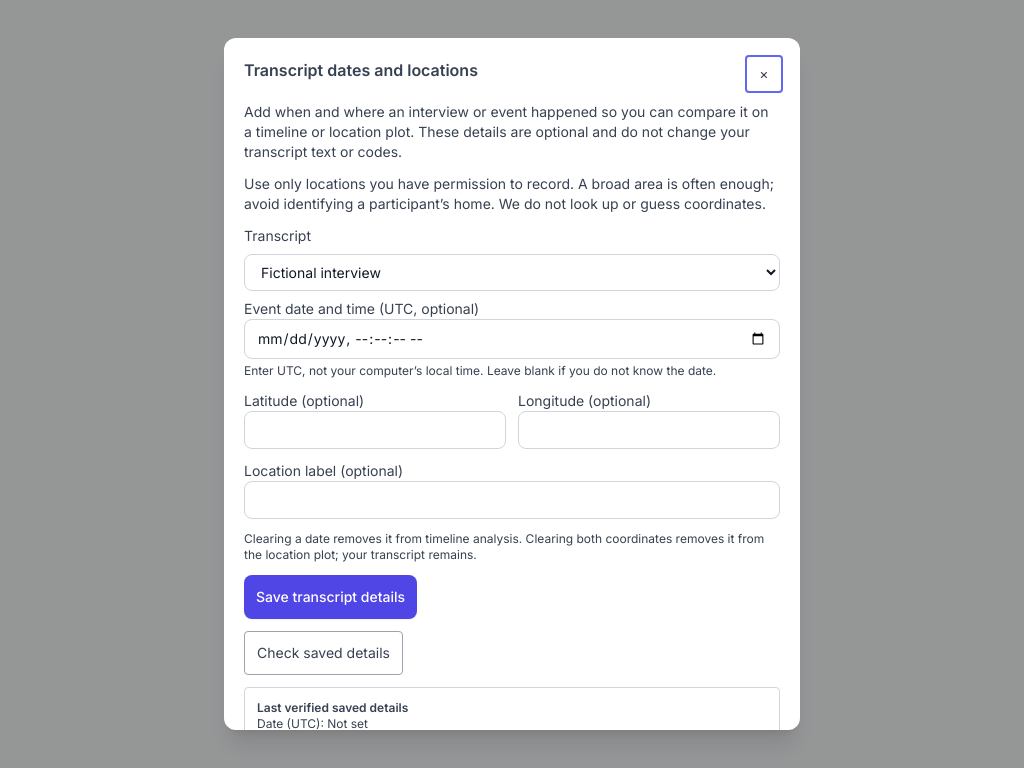
transcript metadata setup and uncertain-save recovery › confirms a legitimate zero coordinate pair and broadcasts only the confirmed write
Check: the button "Save transcript details" is enabled, box [244, 575, 417, 619]
In the field labelled "Latitude (optional)": {"x": 375, "y": 430} [244, 411, 506, 449], type "0"
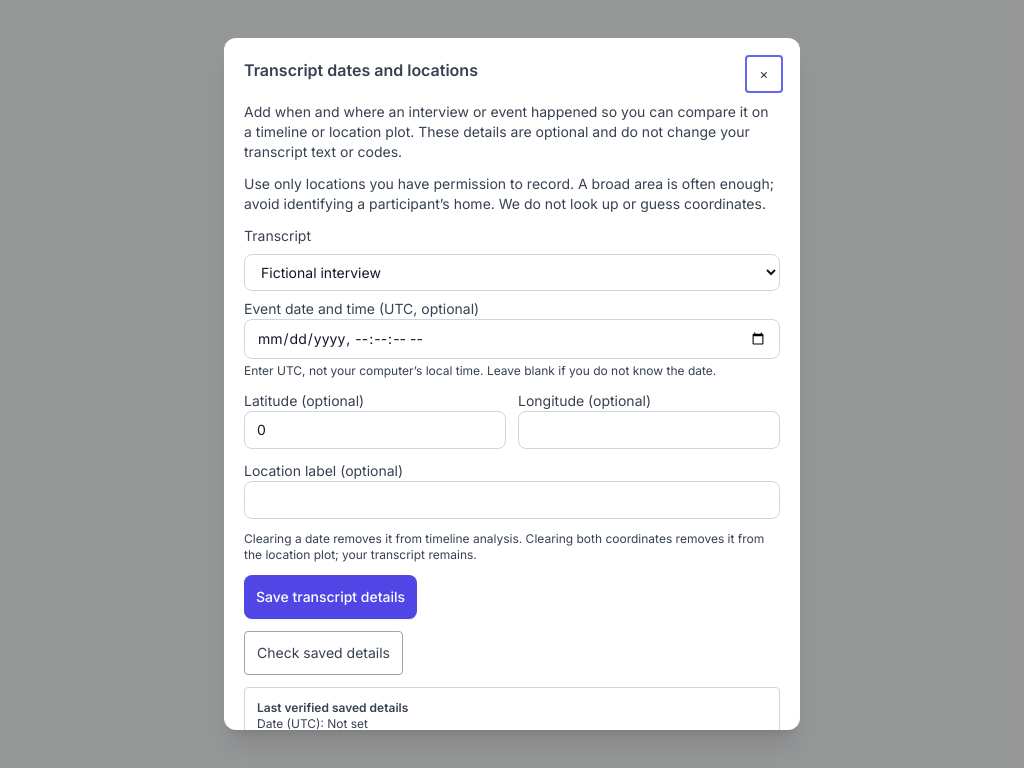
In the field labelled "Longitude (optional)": {"x": 649, "y": 430} [518, 411, 780, 449], type "0"
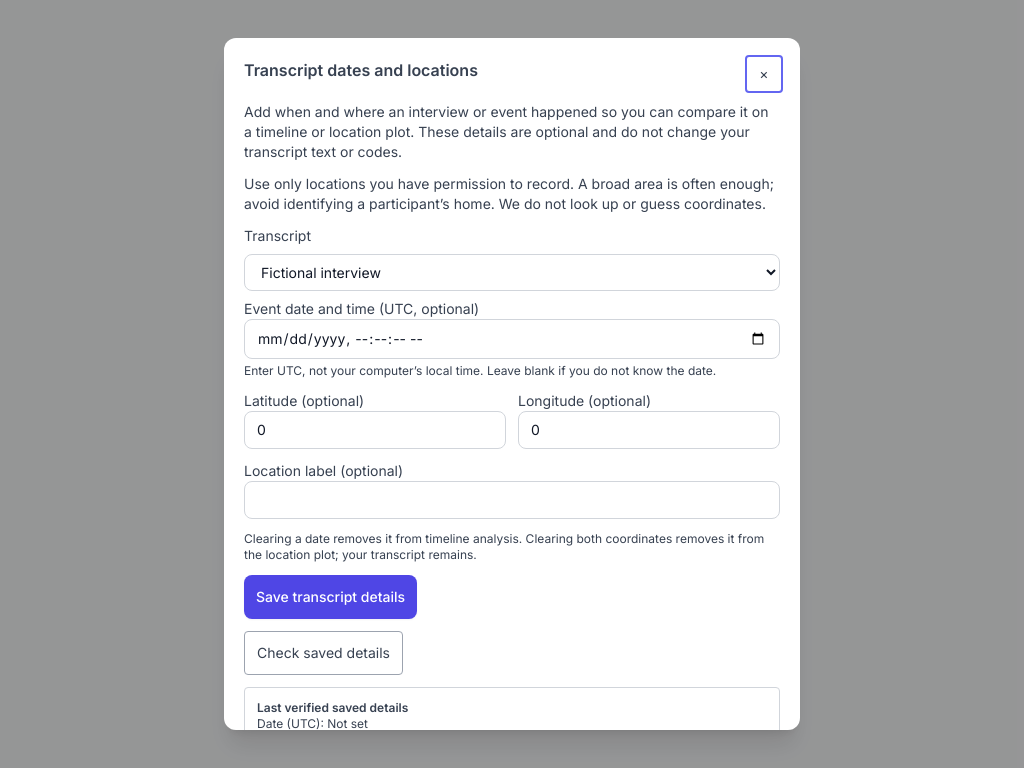
Click the button "Save transcript details": {"x": 331, "y": 597} [244, 575, 417, 619]
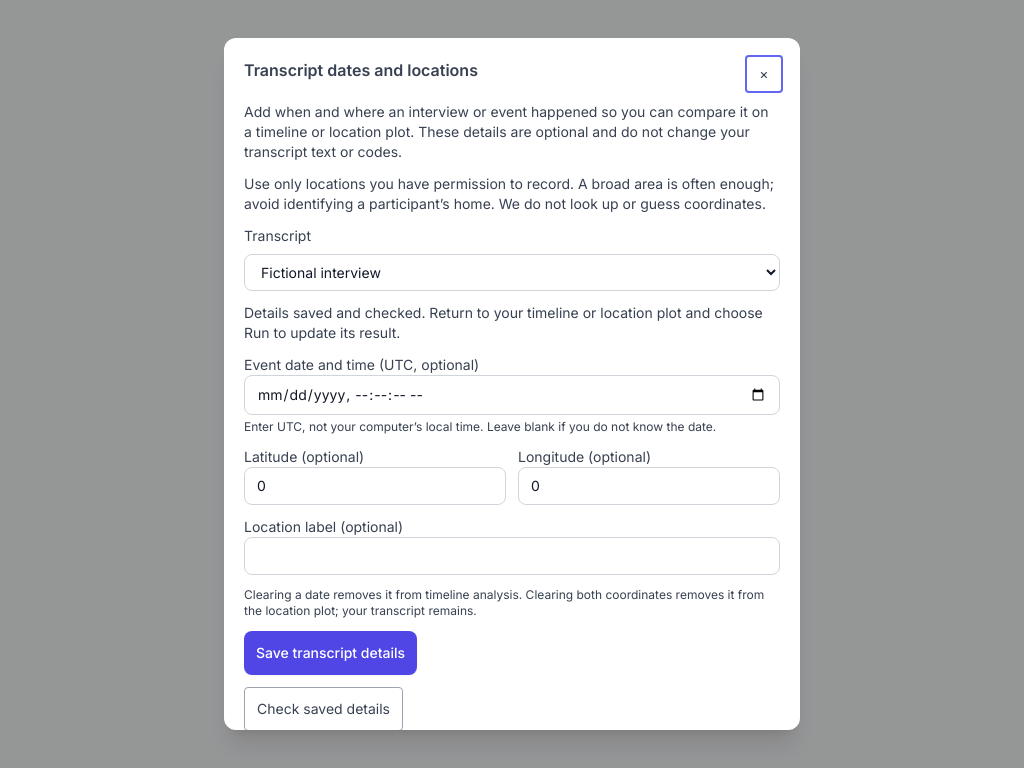
Check: the text "Details saved and checked" is shown, box [244, 304, 763, 341]
